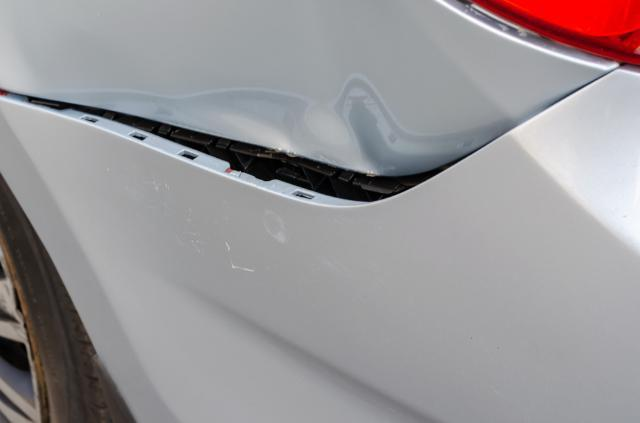dent: (167, 80, 412, 172)
dislocated part: (1, 63, 621, 220)
